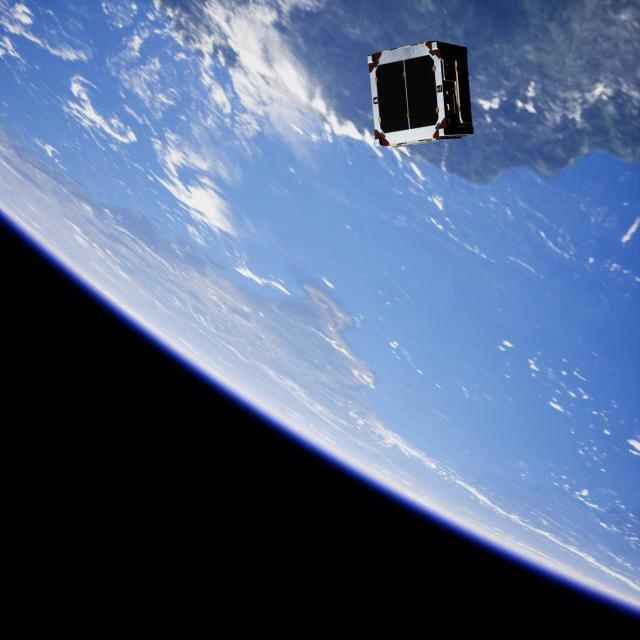medium_debris: (367, 36, 471, 148)
